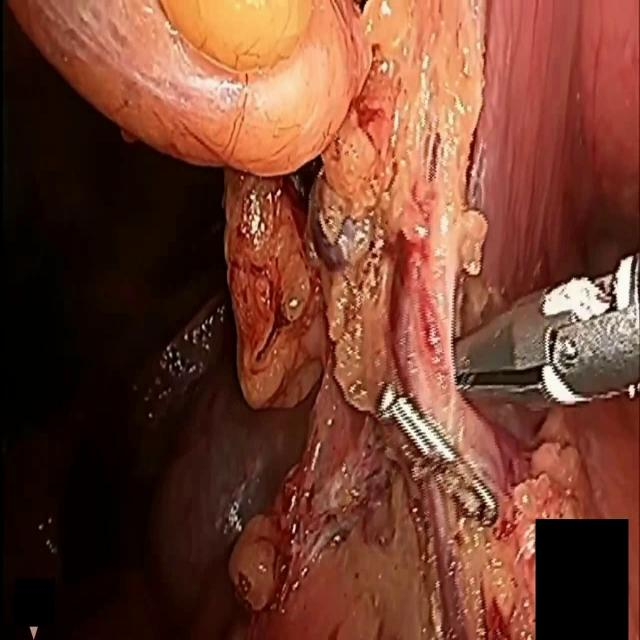surgical-area: (2, 0, 640, 639)
surgical-tool: (452, 252, 640, 405)
